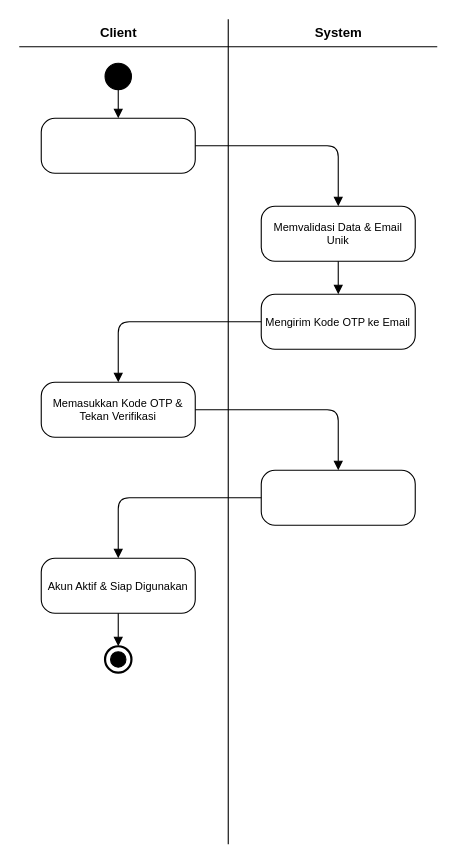
Some shapes in this 458 by 865 pixel diagram are drawn without their labels. The shapes that lost their labels are listed below. From the top down, each one's centre as x and y in pixels, then its label:
pixel 117 145: Akses Halaman /register & Isi Data Akun
pixel 337 497: Mengubah Status User Menjadi Aktif
